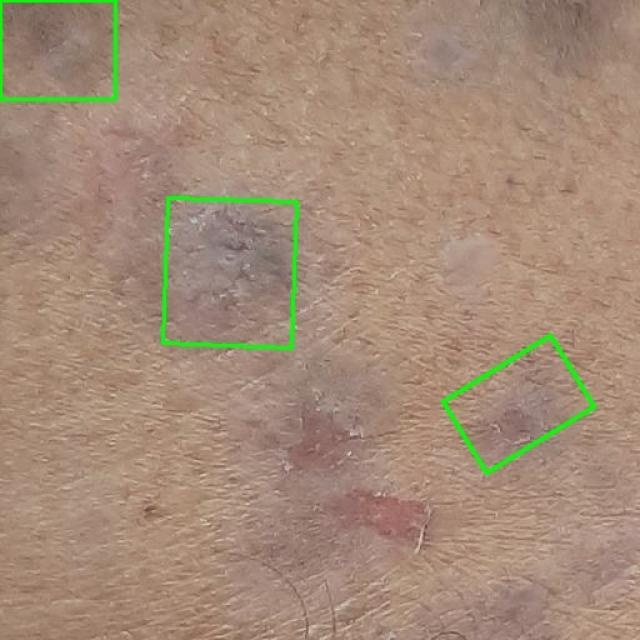Contact Dermatitis: (443, 336, 594, 473), (164, 198, 297, 348), (0, 0, 115, 99)
